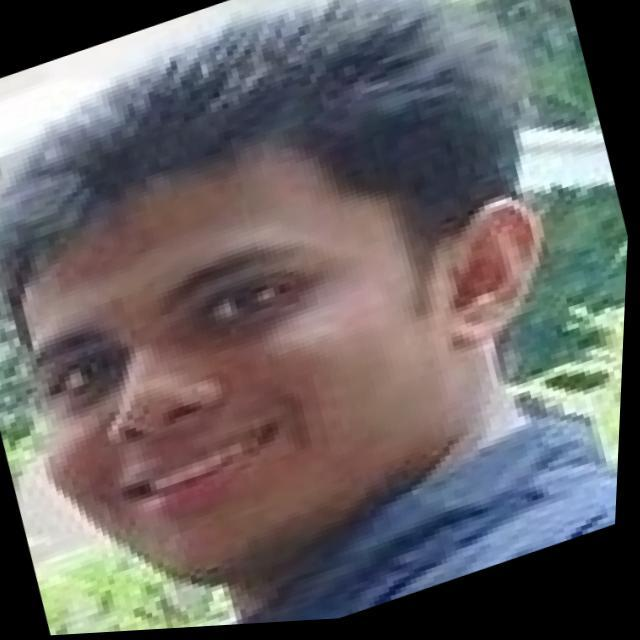Nonhelmet: (4, 5, 556, 599)
